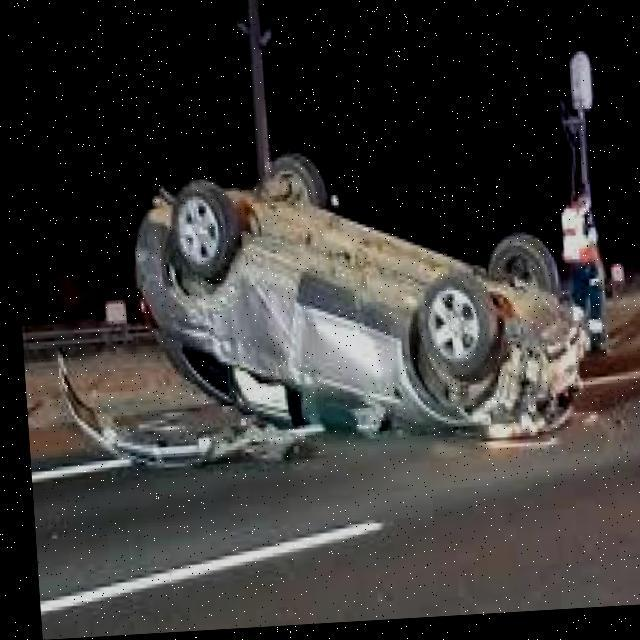single accident: (62, 132, 640, 512)
